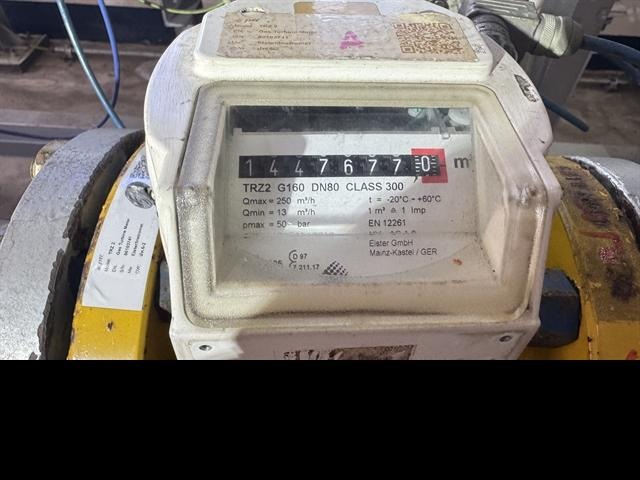analog_dial: (235, 140, 451, 184)
